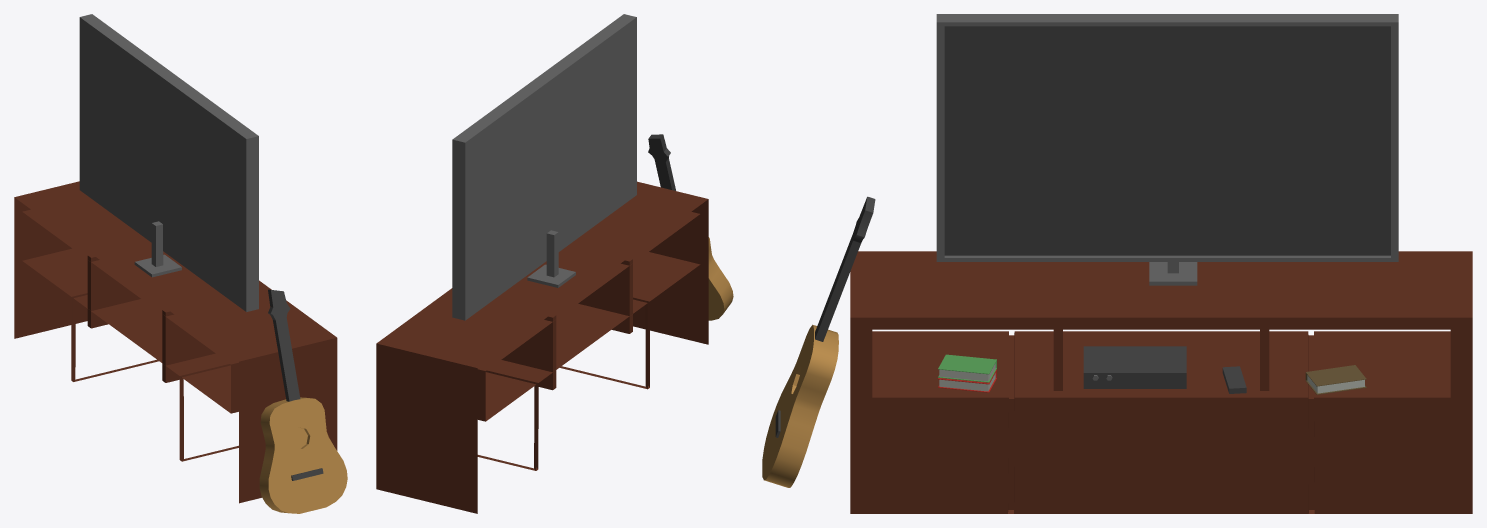
The model's file is Television Set.fbx.
3 views of the same model, side by side, from view 1: azimuth 30°, elevation 25°; view 2: azimuth 150°, elevation 25°; view 3: azimuth 270°, elevation 25° (orthographic). The views are drawn at different scales.
Parts seen in each view (by area): view 1: Television Set; view 2: Television Set; view 3: Television Set.
Boxes of the visible parts, x1,y1,x2,y2 form: Television Set: [14, 14, 347, 513]; Television Set: [376, 14, 733, 513]; Television Set: [762, 14, 1472, 513].
Size of the model in its own units: 25.61 by 82.59 by 116.
